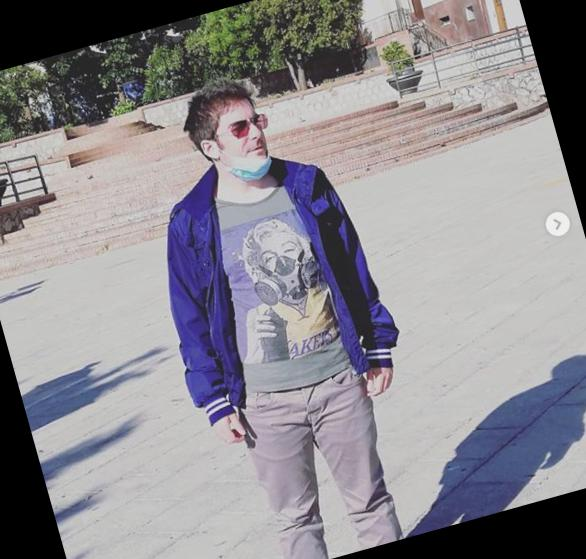mask_weared_incorrect: (218, 114, 279, 186)
